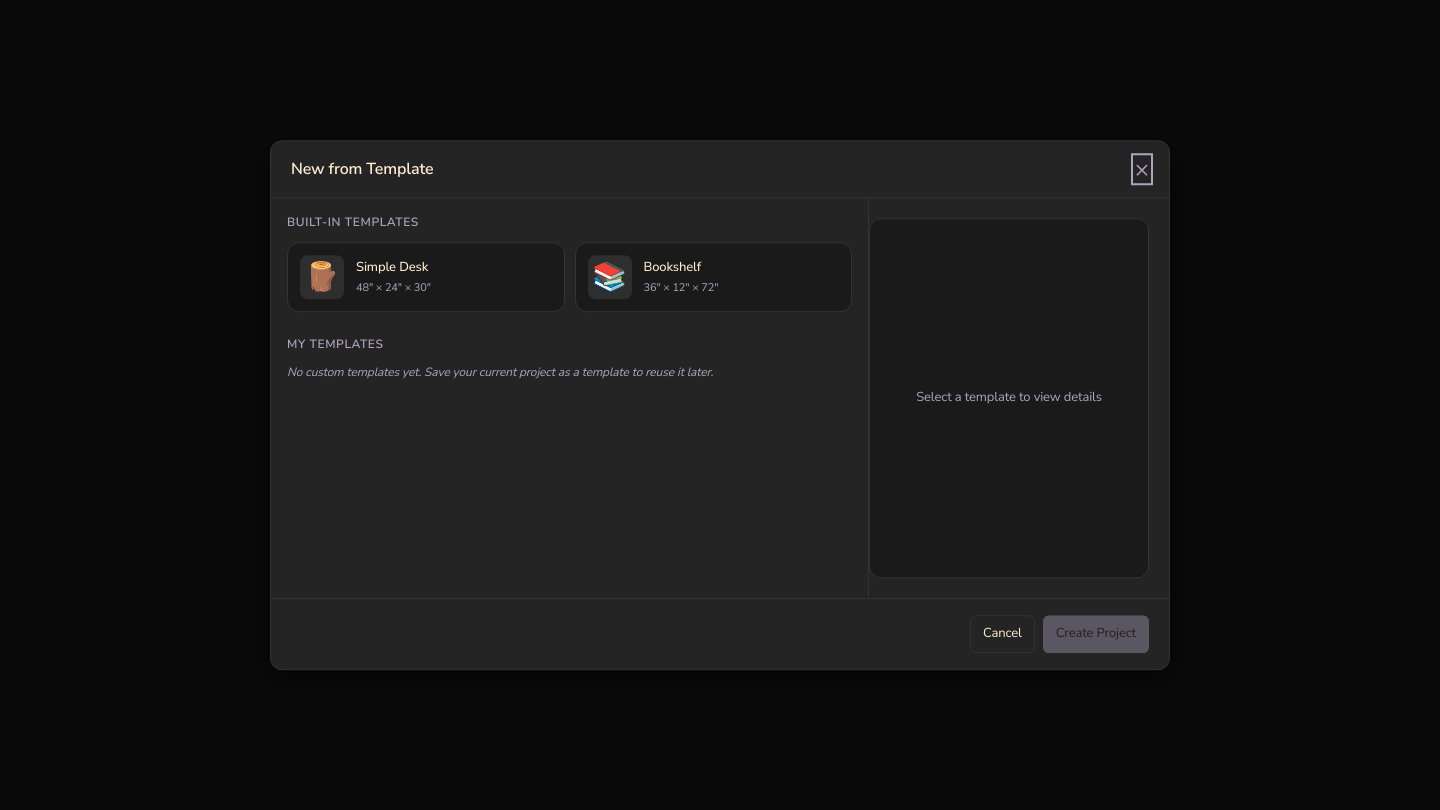
Test: TemplateBrowserModal › template selection › selects template when clicked
The width and height of the screenshot is (1440, 810).
Click the text "Simple Desk" at (392, 267), box x1=356 y1=258 x2=428 y2=276
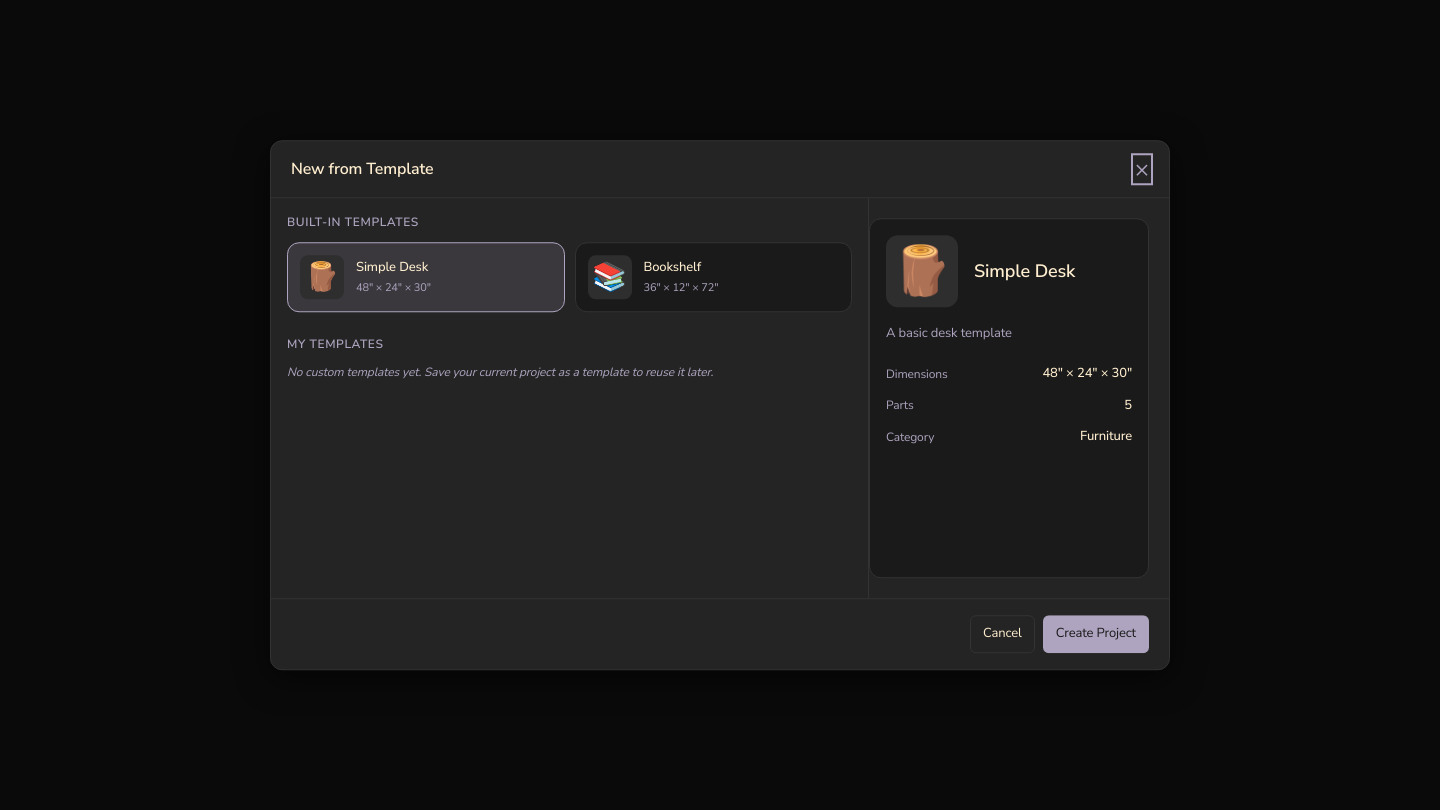
Check: the text "A basic desk template" is shown, box x1=886 y1=324 x2=1012 y2=342
